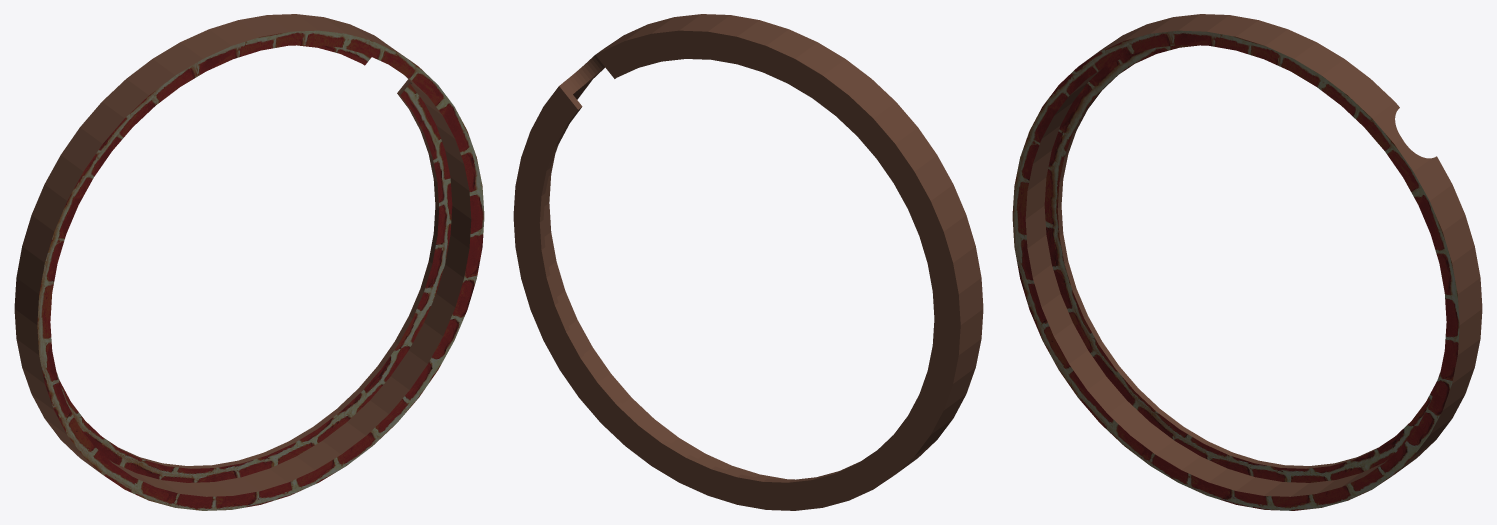
File: pool_036.obj
The picture shows the model from 3 angles, left to right: view 1: azimuth 30°, elevation 25°; view 2: azimuth 150°, elevation 25°; view 3: azimuth 330°, elevation 25°; orthographic projection.
Size of the model in its own units: 34 by 34 by 3.
